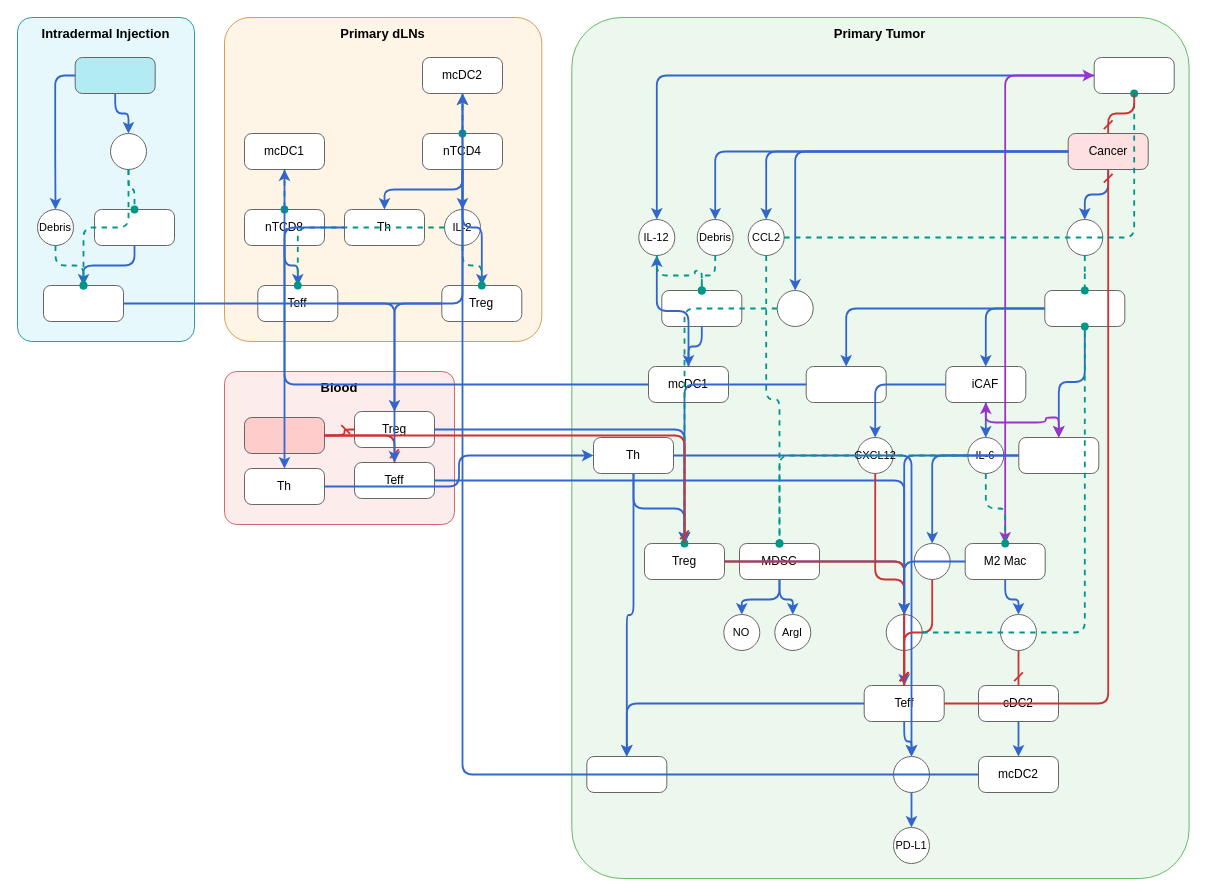
Image size: 1207x896. Some labels were removed from this diagram. Each missing label, with the centre of its shape:
APC: the point at 134,227
apCAF: the point at 845,384
CCL5: the point at 794,308
cDC1: the point at 701,308
Cy: the point at 284,435
ECM: the point at 931,561
GM-CSF: the point at 128,151
GVAX: the point at 114,75
IFNγ: the point at 911,774
IL-10: the point at 1018,632
M1 Mac: the point at 1133,75
mAPC: the point at 83,303
myCAF: the point at 1058,455
PDGF: the point at 1084,237
qPSC: the point at 1084,308
Texh: the point at 626,774
TGF-β: the point at 903,632
